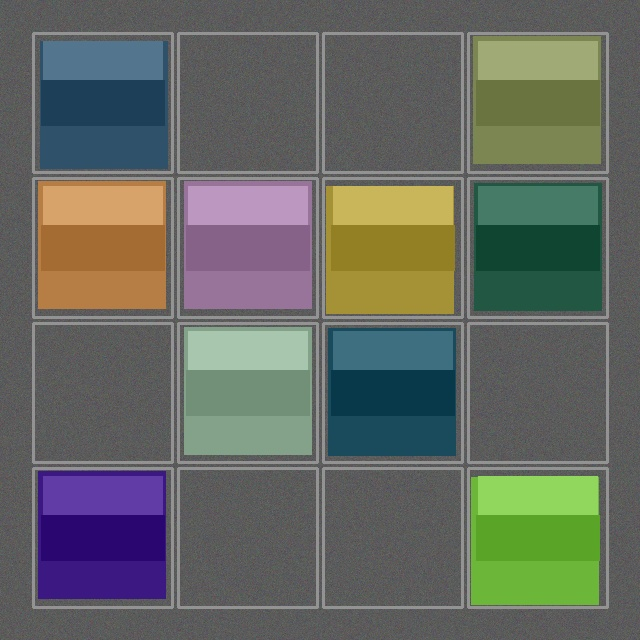space-empty: (180, 35, 315, 170), (325, 35, 460, 170), (35, 325, 170, 460), (470, 325, 605, 460), (180, 470, 315, 605), (325, 470, 460, 605)
space-occupied: (35, 35, 170, 170), (470, 35, 605, 170), (35, 180, 170, 315), (180, 180, 315, 315), (325, 180, 460, 315), (470, 180, 605, 315), (180, 325, 315, 460), (325, 325, 460, 460), (35, 470, 170, 605), (470, 470, 605, 605)
